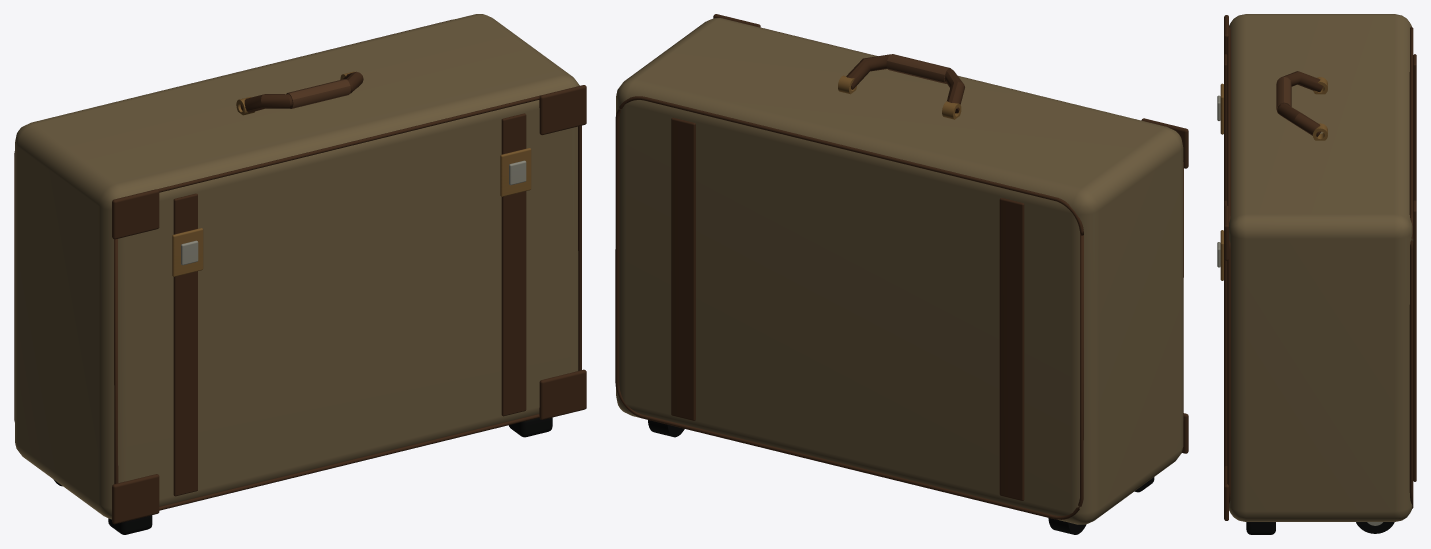
Rendered from D04_SuitcasePainted.fbx.
3 views of the same model, side by side, from view 1: azimuth 30°, elevation 25°; view 2: azimuth 150°, elevation 25°; view 3: azimuth 270°, elevation 25° (orthographic). The views are drawn at different scales.
Visible parts, largest first — view 1: CaseShell_Mesh, HandlePivot_Mesh, LatchLeft_Mesh, LatchRight_Mesh; view 2: CaseShell_Mesh, HandlePivot_Mesh; view 3: CaseShell_Mesh, HandlePivot_Mesh, WheelLeft_Mesh, LatchRight_Mesh, LatchLeft_Mesh.
Boxes of the visible parts, bbox=[...] form: CaseShell_Mesh: bbox=[14, 14, 586, 534]; HandlePivot_Mesh: bbox=[240, 71, 363, 112]; LatchLeft_Mesh: bbox=[500, 148, 531, 196]; LatchRight_Mesh: bbox=[172, 228, 203, 276]; CaseShell_Mesh: bbox=[615, 14, 1188, 524]; HandlePivot_Mesh: bbox=[846, 54, 964, 113]; CaseShell_Mesh: bbox=[1224, 14, 1416, 534]; HandlePivot_Mesh: bbox=[1276, 71, 1323, 137]; WheelLeft_Mesh: bbox=[1356, 522, 1394, 533]; LatchRight_Mesh: bbox=[1217, 83, 1223, 134]; LatchLeft_Mesh: bbox=[1217, 230, 1223, 280].
Size of the model in its own units: 0.6 by 0.458 by 0.236.
